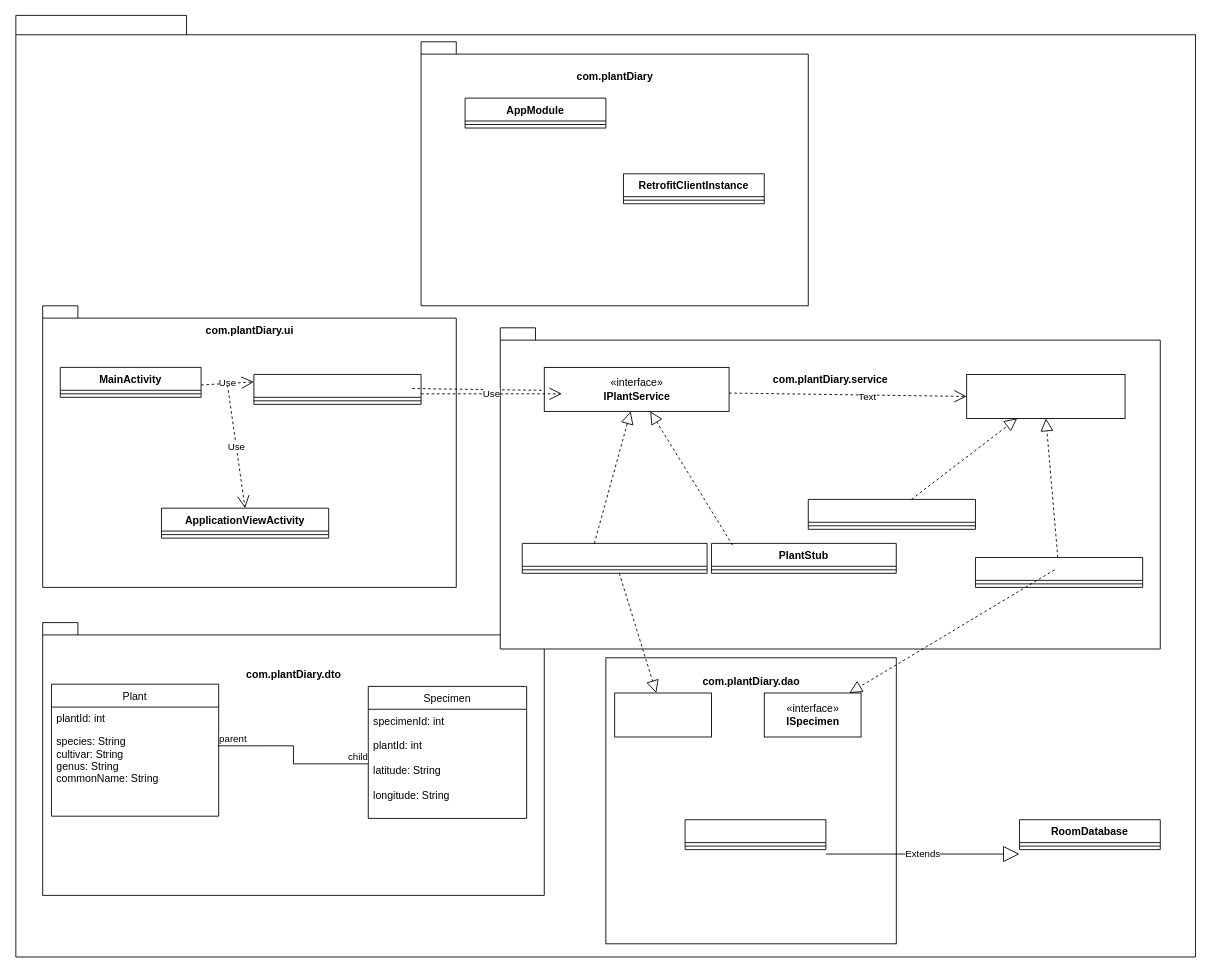
Some shapes in this 1211 by 972 pixel diagram are drawn without their labels. The centre of each missing label's shape, as x and y in pixels:
PlantService: point (614, 558)
SpecimenDatabase: point (755, 834)
SpecimenService: point (891, 514)
SpecimenStub: point (1059, 572)
ViewActivity: point (337, 389)
«interface» IPlantDao: point (662, 714)
«interface» ISpecimenService: point (1045, 396)
